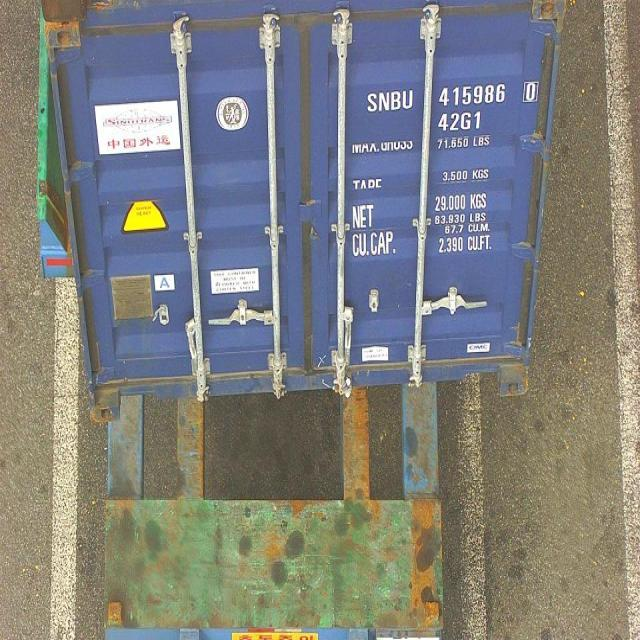ISO: (438, 110, 483, 134)
container_number: (366, 82, 544, 115)
